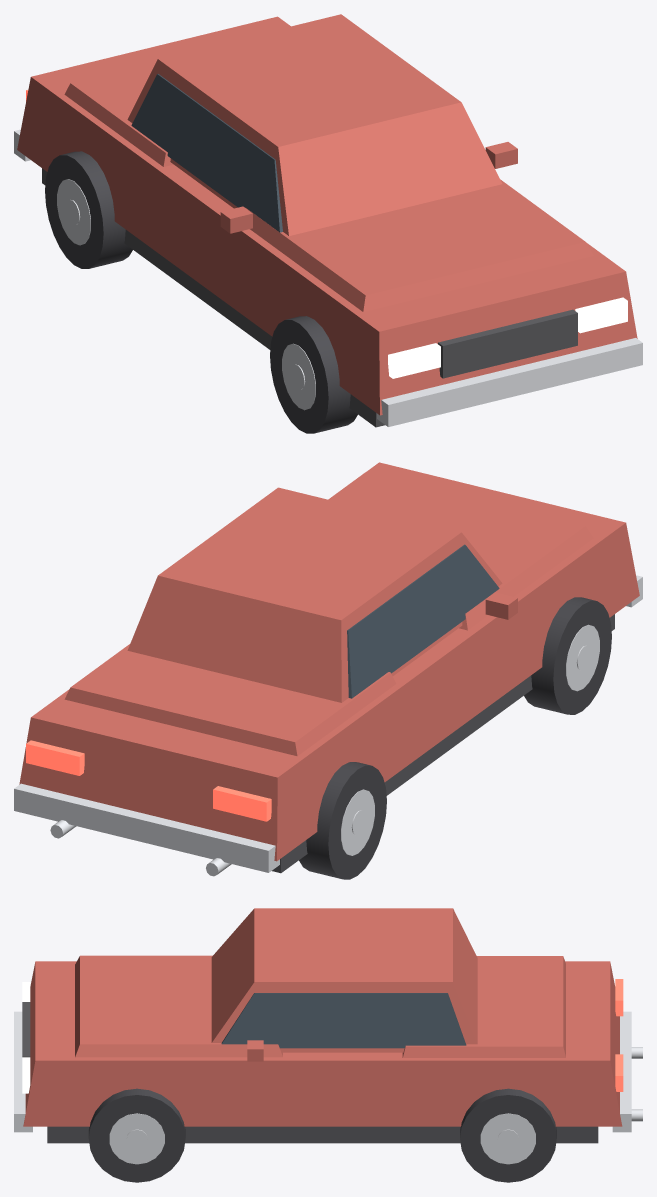
The model's file is car_sedan.glb.
The picture shows the model from 3 angles, top to bottom: view 1: azimuth 30°, elevation 25°; view 2: azimuth 150°, elevation 25°; view 3: azimuth 270°, elevation 25°; orthographic projection. The views are drawn at different scales.
Parts seen in each view (by area): view 1: VehicleRoot; view 2: VehicleRoot; view 3: VehicleRoot.
Boxes of the visible parts, bbox=[...] form: VehicleRoot: bbox=[14, 14, 642, 433]; VehicleRoot: bbox=[14, 462, 642, 879]; VehicleRoot: bbox=[14, 908, 642, 1182].
Size of the model in its own units: 2.04 by 1.48 by 4.67.
